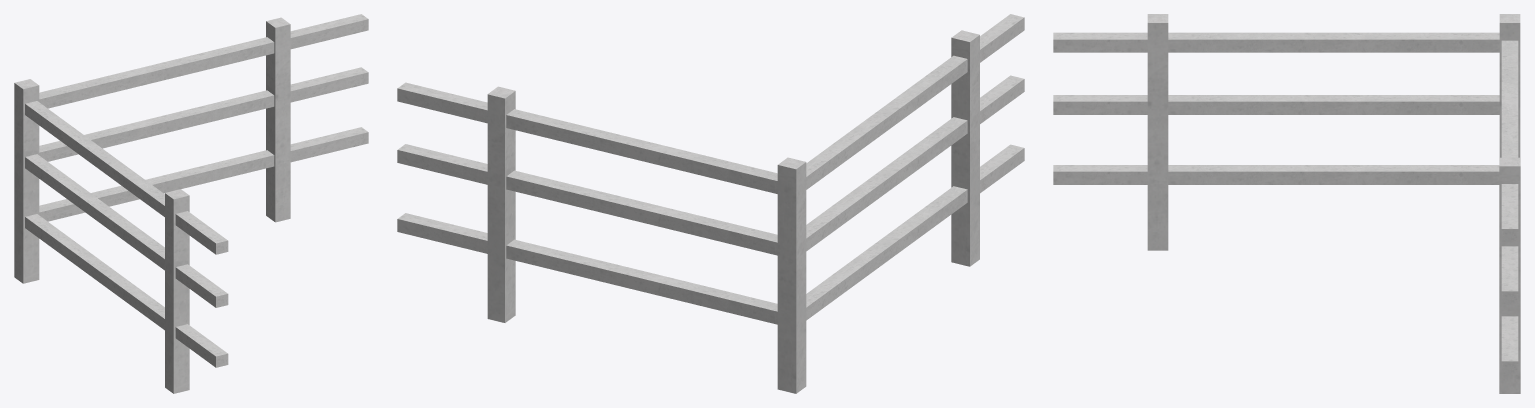
The model's file is MB_Parapet_C_Angle.fbx.
3 views of the same model, side by side, from view 1: azimuth 30°, elevation 25°; view 2: azimuth 150°, elevation 25°; view 3: azimuth 270°, elevation 25° (orthographic). The views are drawn at different scales.
Visible parts, largest first — view 1: MB_Parapet_Angle_C; view 2: MB_Parapet_Angle_C; view 3: MB_Parapet_Angle_C.
Part boxes in pixels (bbox=[...]): MB_Parapet_Angle_C: bbox=[14, 14, 368, 393]; MB_Parapet_Angle_C: bbox=[397, 14, 1024, 393]; MB_Parapet_Angle_C: bbox=[1053, 14, 1520, 393].
Size of the model in its own units: 179 by 96.19 by 179.
